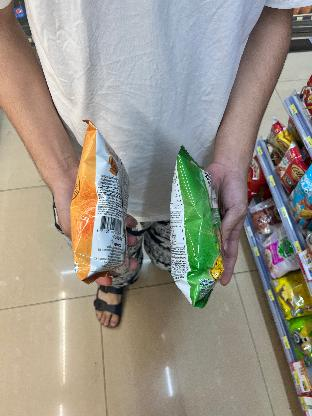Plastic Packaging: (57, 109, 144, 297), (162, 145, 236, 309)
